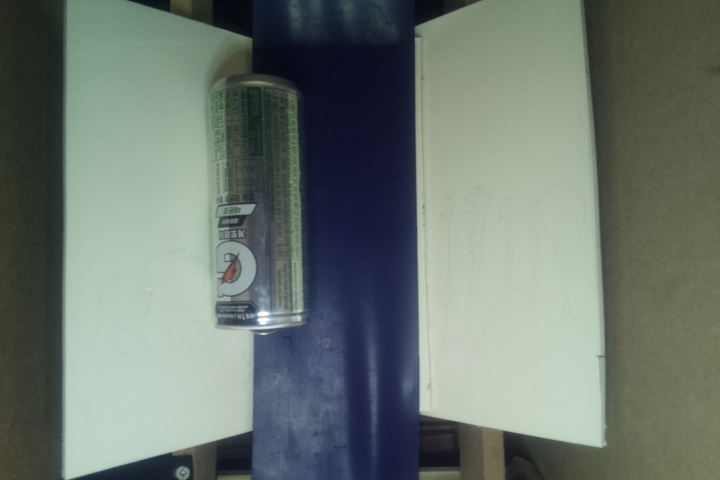can: (205, 72, 312, 337)
